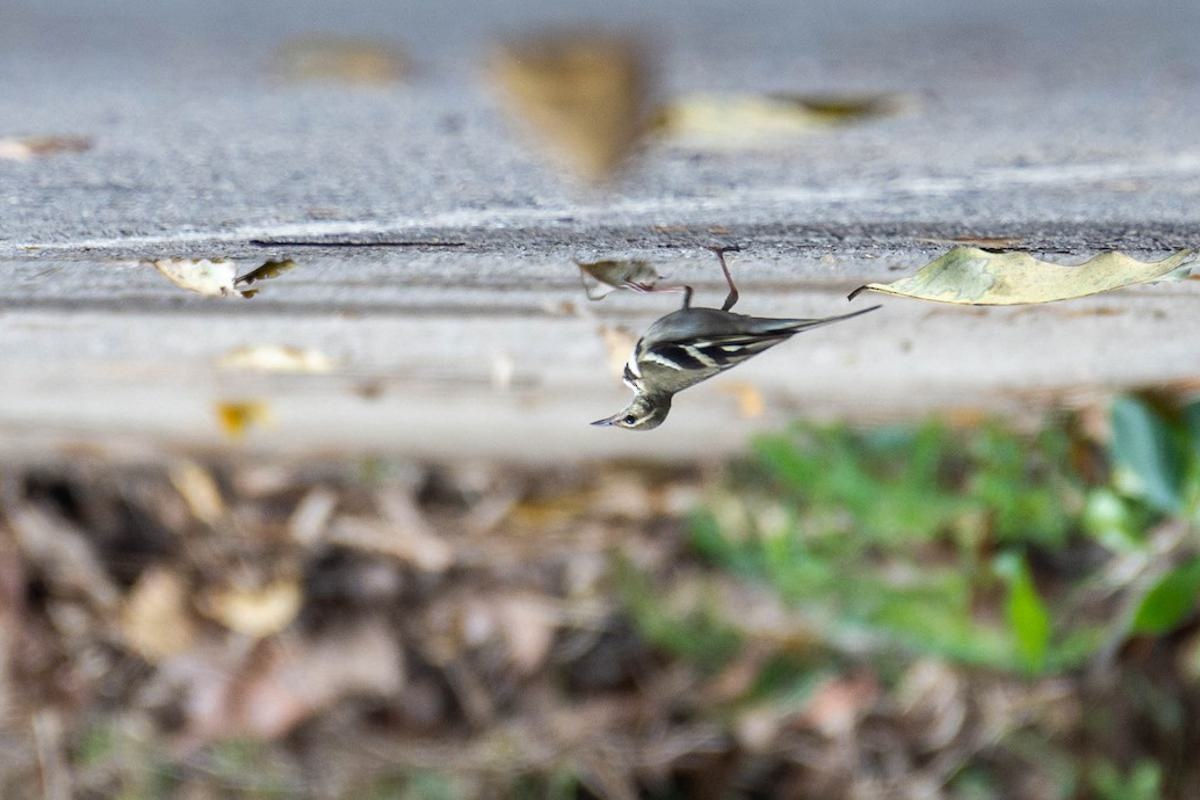wagtail: (573, 255, 850, 463)
